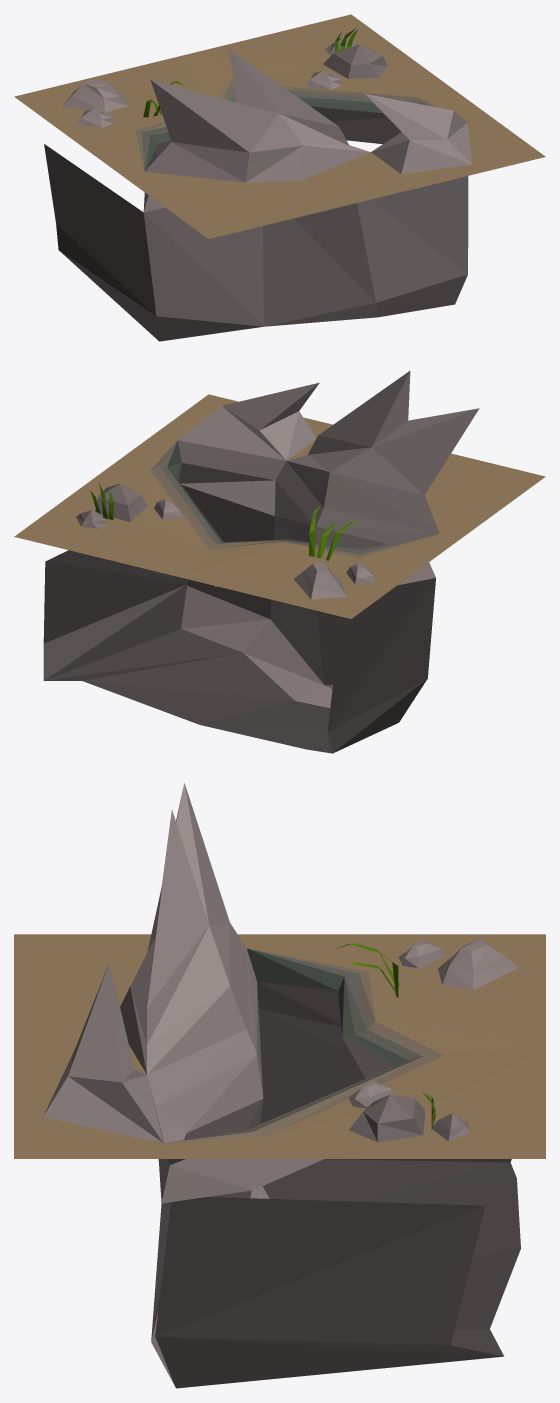
Rendered from obj_rocks_53_0.obj.
The picture shows the model from 3 angles, top to bottom: view 1: azimuth 30°, elevation 25°; view 2: azimuth 150°, elevation 25°; view 3: azimuth 270°, elevation 25°; orthographic projection. The views are drawn at different scales.
Size of the model in its own units: 2.03 by 1.8 by 2.
